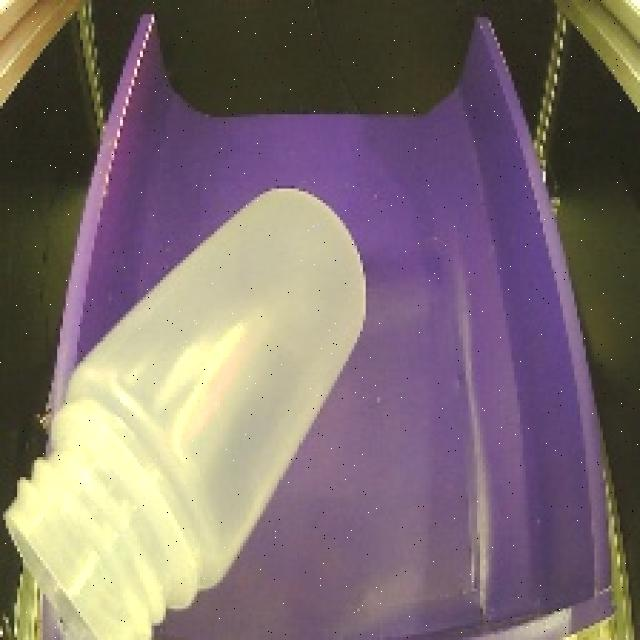plastic: (0, 170, 379, 640)
